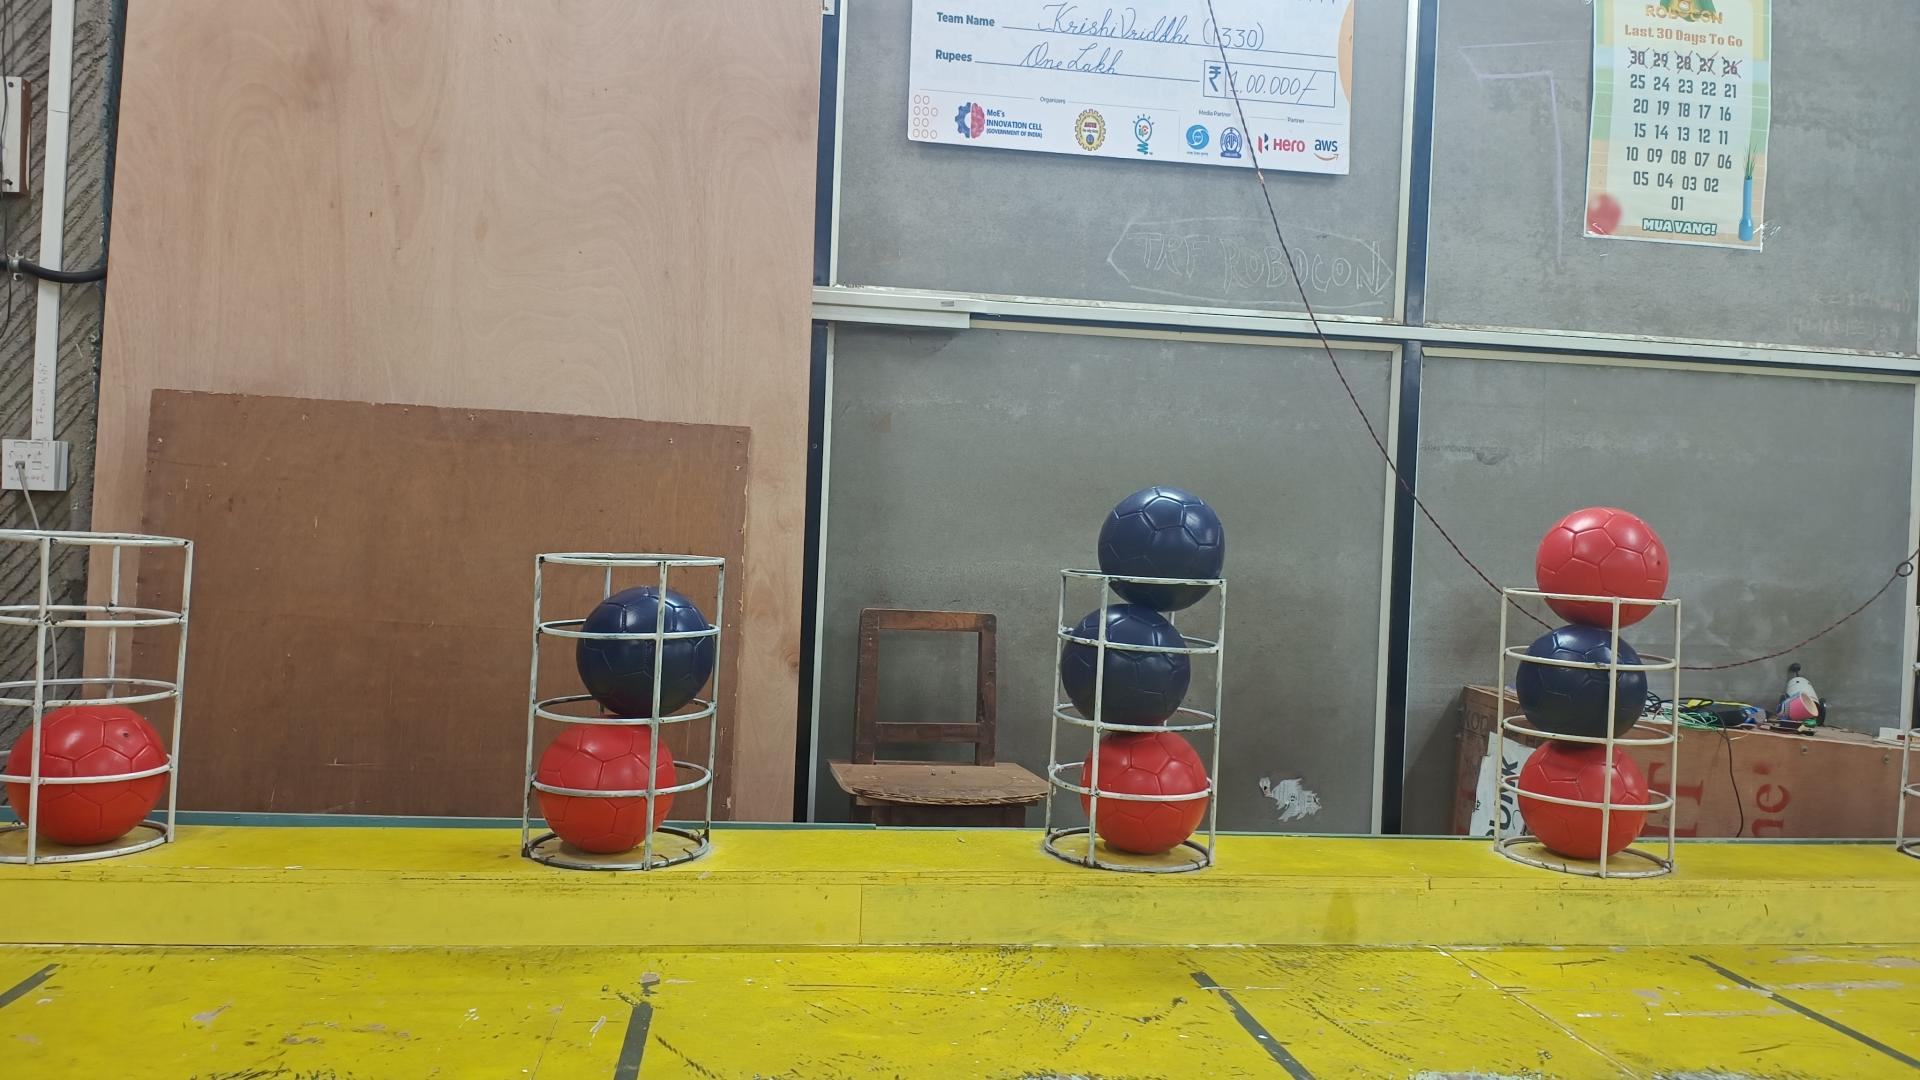dhoka: (578, 585, 716, 720), (1515, 622, 1650, 746), (1062, 604, 1192, 728), (1098, 488, 1226, 612)
laale: (4, 705, 169, 848), (537, 724, 679, 855), (1515, 738, 1650, 862), (1534, 506, 1668, 630), (1080, 732, 1212, 855)
